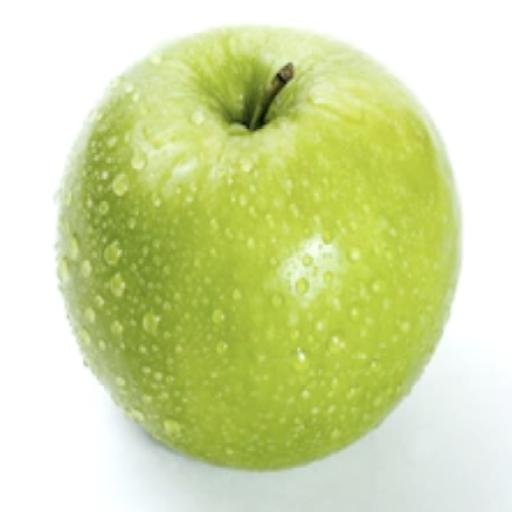apple: (59, 27, 460, 469)
